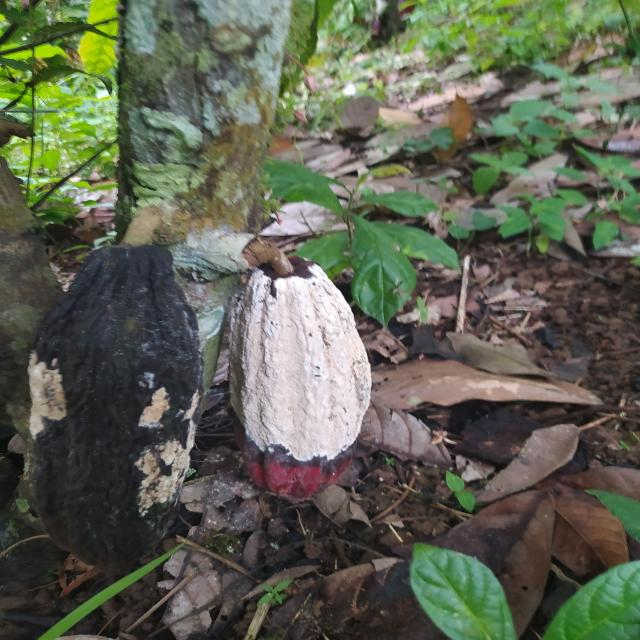Monilia: (28, 241, 207, 571), (225, 257, 374, 500)
